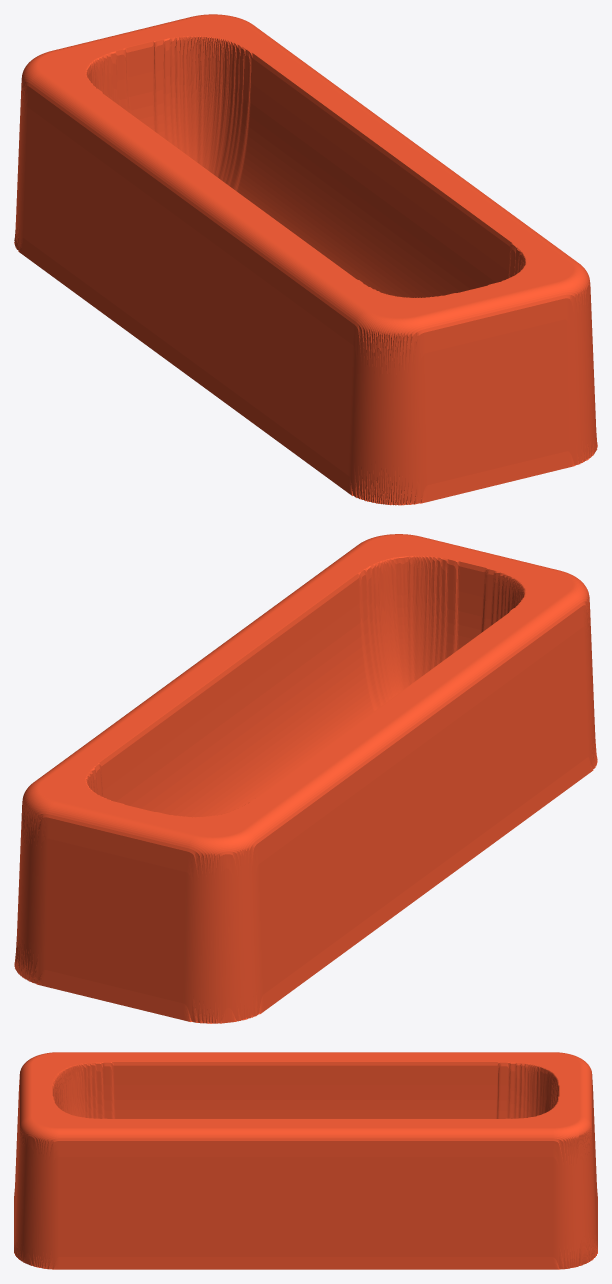
File: mold.glb
The picture shows the model from 3 angles, top to bottom: view 1: azimuth 30°, elevation 25°; view 2: azimuth 150°, elevation 25°; view 3: azimuth 270°, elevation 25°; orthographic projection. The views are drawn at different scales.
Parts seen in each view (by area): view 1: geometry_0; view 2: geometry_0; view 3: geometry_0.
Boxes of the visible parts, x1,y1,x2,y2 form: geometry_0: (14,14,597,505); geometry_0: (14,534,597,1023); geometry_0: (14,1052,597,1269).
Size of the model in its own units: 0.0428 by 0.0299 by 0.1178.
